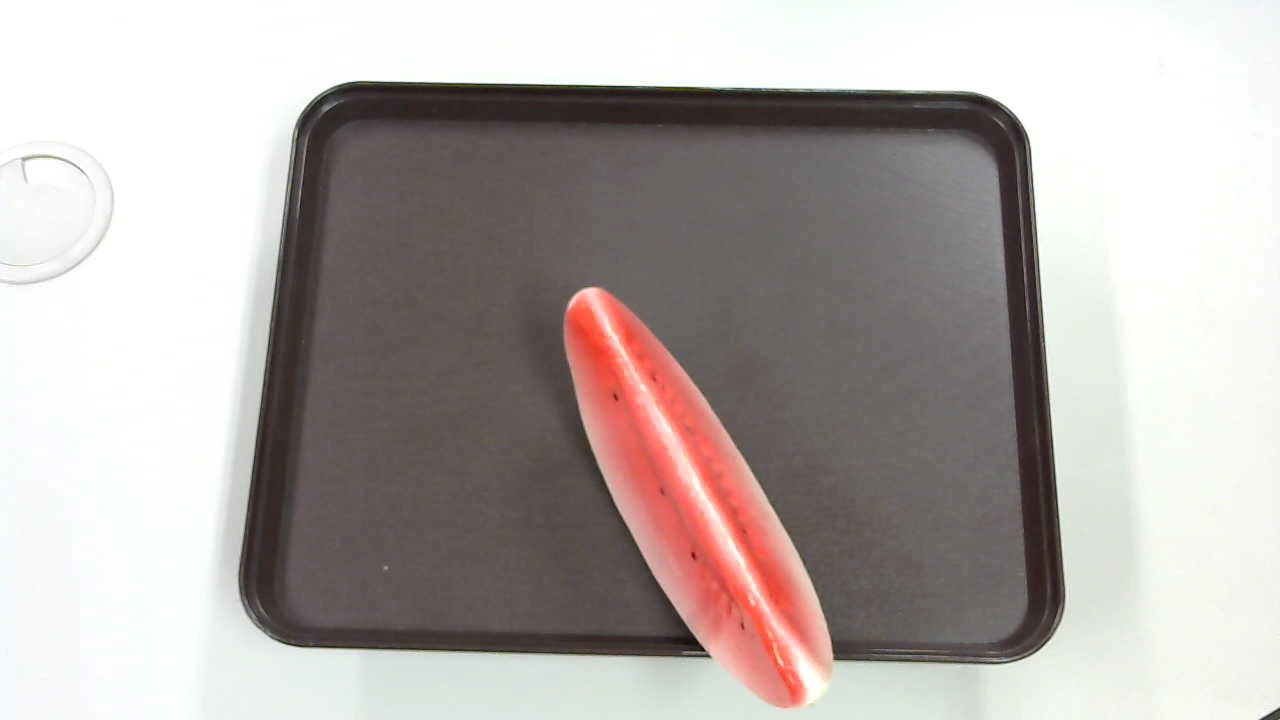water melon: (540, 271, 853, 720)
